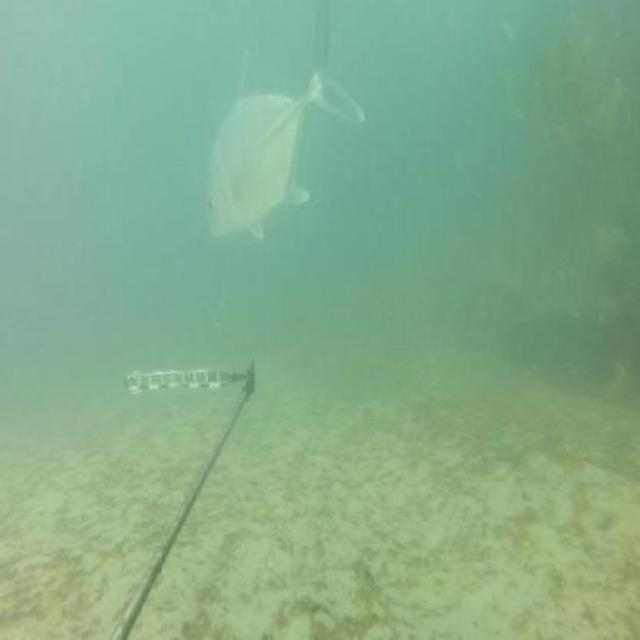Caranx: (205, 9, 366, 249)
